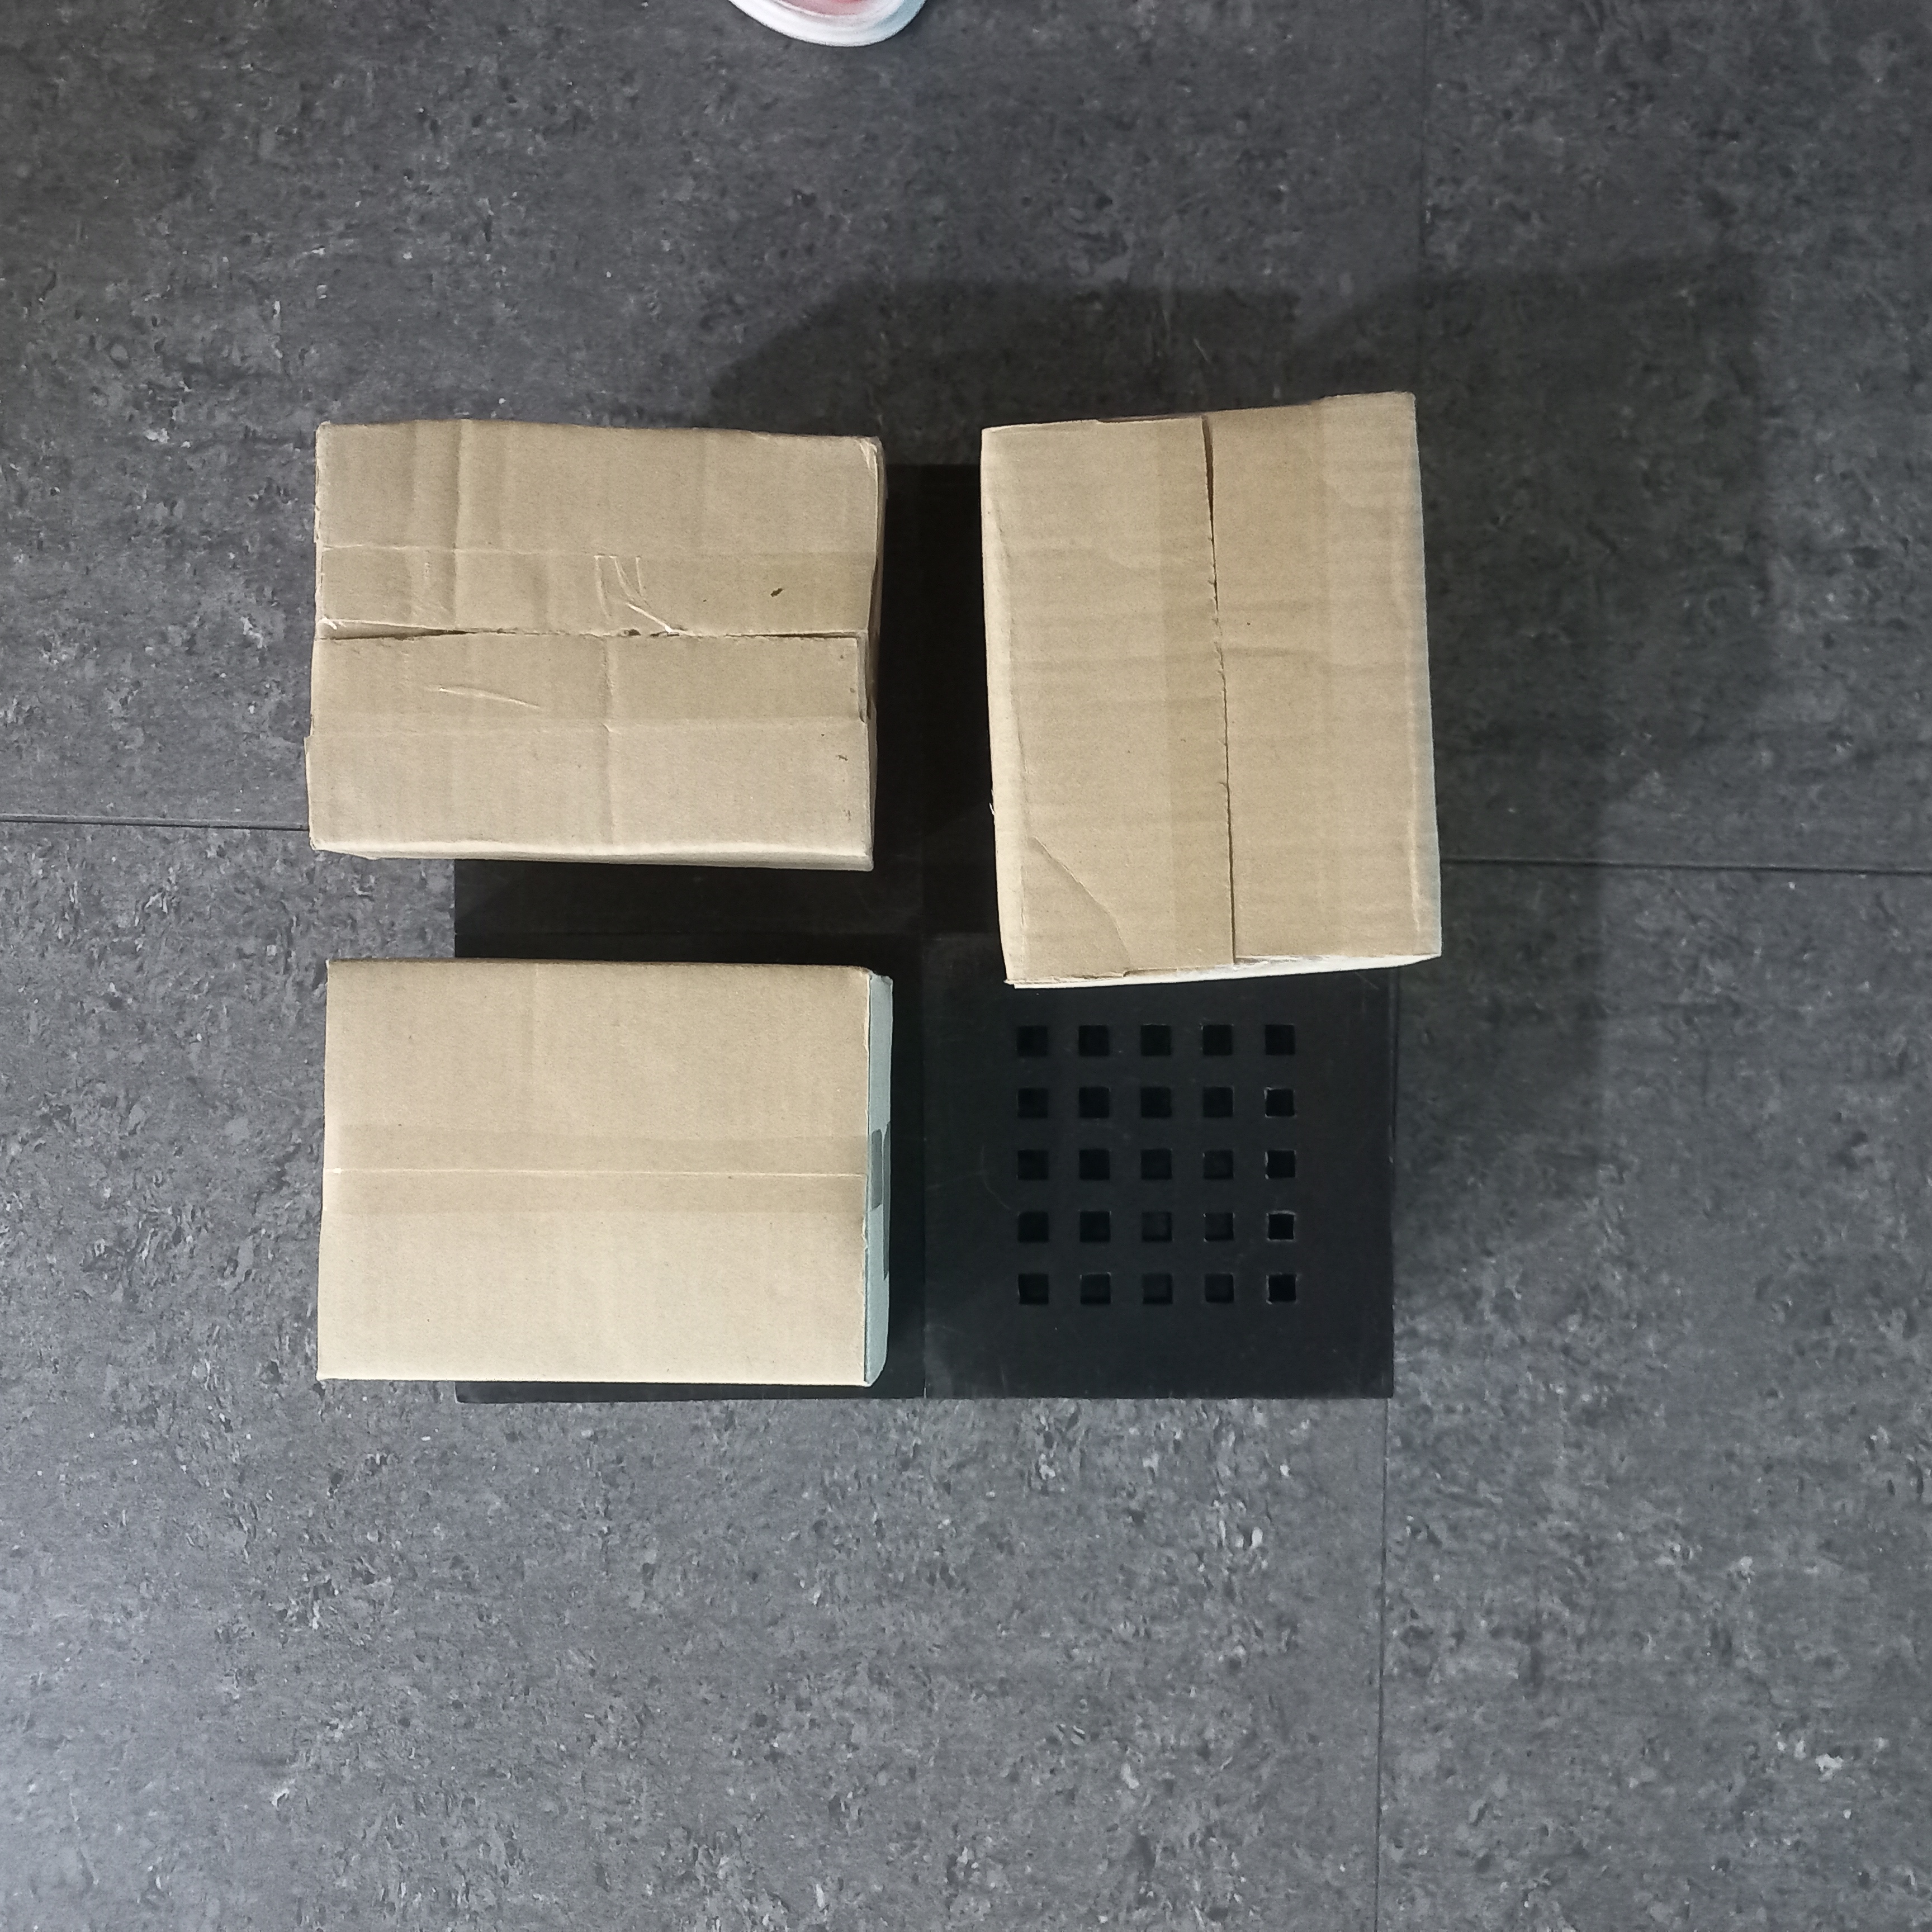box: (977, 384, 1444, 991), (306, 409, 886, 874), (311, 955, 881, 1398)
